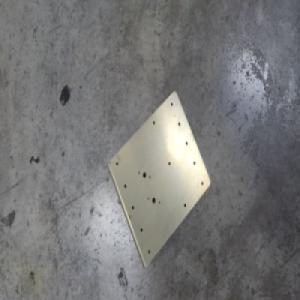MetalSheet: (106, 89, 212, 271)
